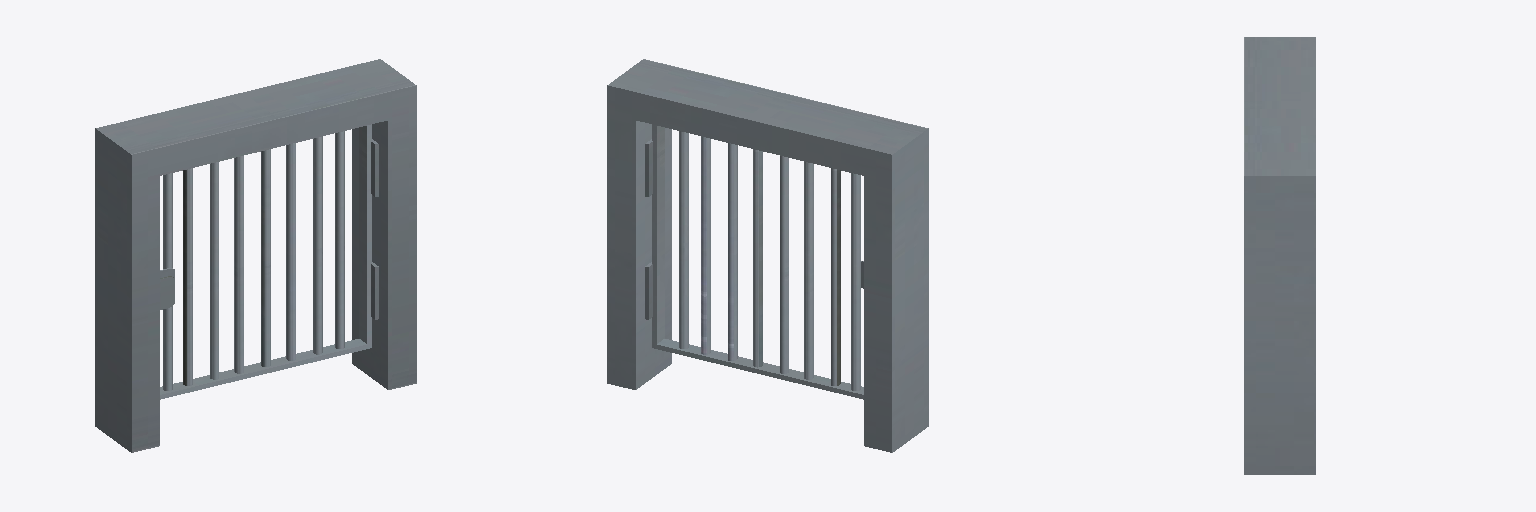
3 renders of one model, left to right at view 1: azimuth 30°, elevation 25°; view 2: azimuth 150°, elevation 25°; view 3: azimuth 270°, elevation 25°, orthographic.
Visible parts, largest first — view 1: postOffice_window.obj; view 2: postOffice_window.obj; view 3: postOffice_window.obj.
Boxes of the visible parts, box(x1,y1,x2,y2) form: postOffice_window.obj: box(95, 59, 416, 452); postOffice_window.obj: box(607, 59, 928, 452); postOffice_window.obj: box(1244, 37, 1315, 474).
Size of the model in its own units: 4.33 by 4.33 by 0.9511.
Materials: 1 (1 with a texture image).